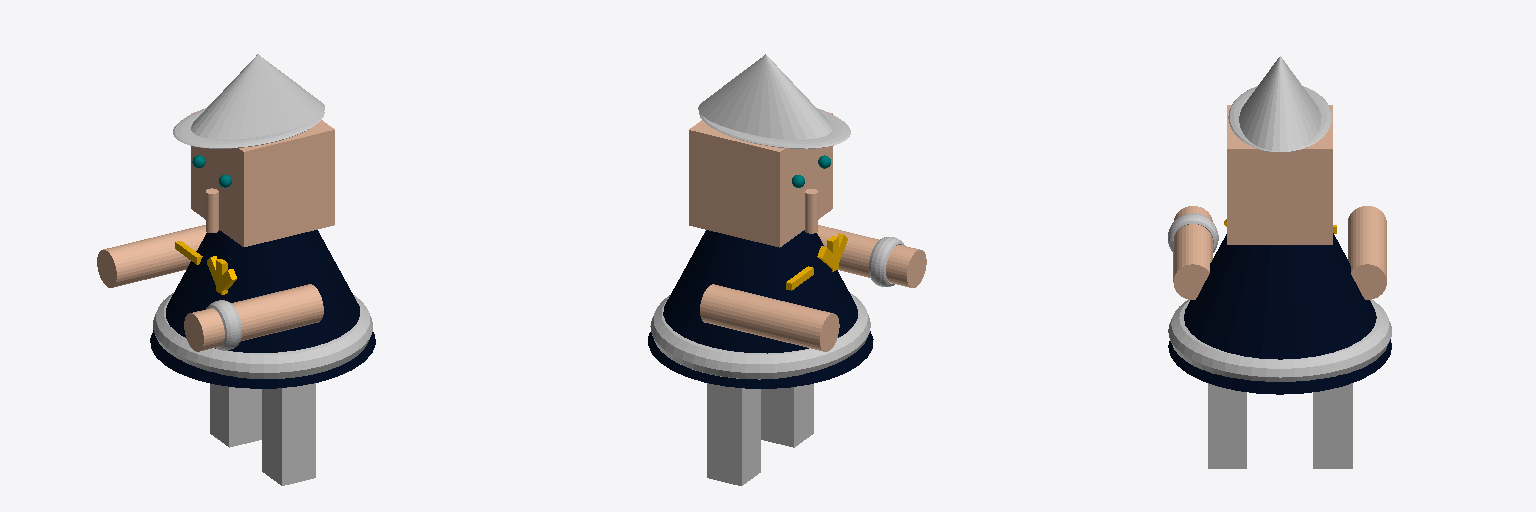
3 renders of one model, left to right at view 1: azimuth 30°, elevation 25°; view 2: azimuth 150°, elevation 25°; view 3: azimuth 270°, elevation 25°, orthographic.
Parts seen in each view (by area): view 1: Cone.001; view 2: Cone.001; view 3: Cone.001.
Part boxes in pixels (bbox=[...]): Cone.001: bbox=[97, 54, 375, 485]; Cone.001: bbox=[648, 54, 926, 485]; Cone.001: bbox=[1168, 56, 1391, 468].
Size of the model in its own units: 3.69 by 6.74 by 3.41.
17 materials, 4 textured.